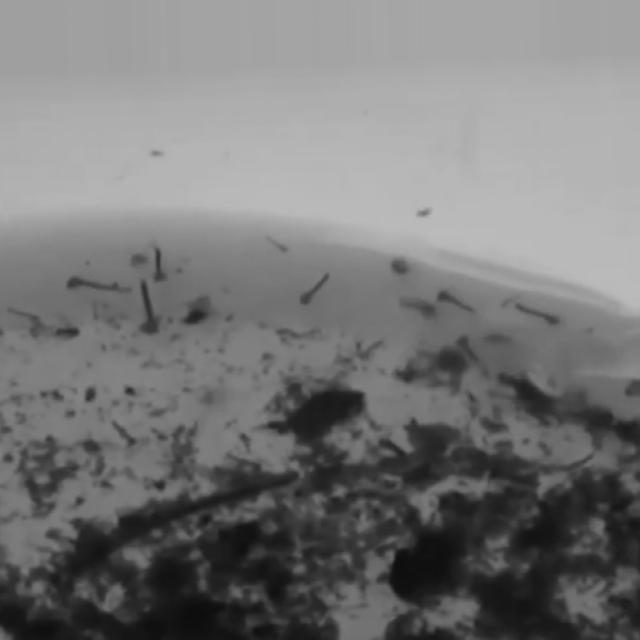larvas: (515, 299, 558, 328), (64, 271, 122, 292), (140, 281, 159, 334), (304, 269, 330, 304), (400, 294, 434, 318), (148, 242, 166, 282), (461, 338, 485, 368), (437, 291, 471, 310), (283, 324, 321, 341), (354, 342, 386, 359), (13, 306, 41, 324), (267, 232, 286, 254), (25, 326, 53, 338)
